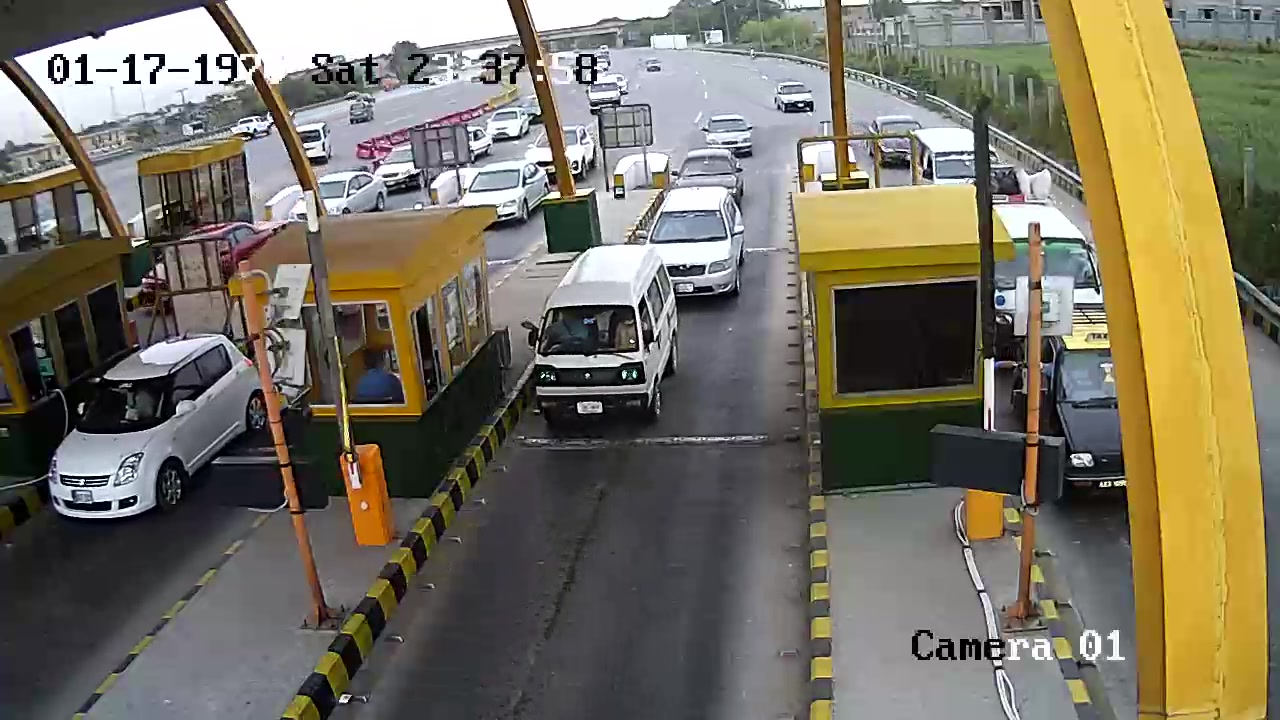F1: (535, 240, 678, 438)
